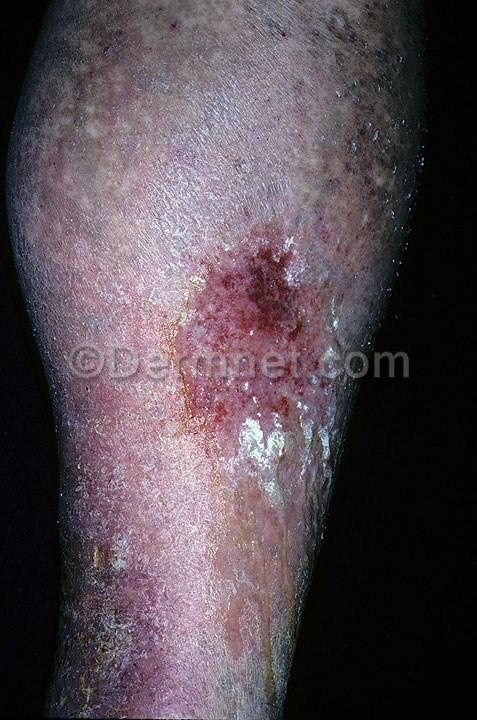Eczema: (211, 219, 332, 362), (261, 0, 384, 120), (54, 367, 165, 499), (27, 103, 164, 209), (216, 365, 319, 495), (39, 0, 163, 107), (160, 31, 258, 155), (274, 119, 362, 247), (24, 204, 138, 299), (142, 311, 218, 447), (97, 213, 204, 308), (24, 290, 153, 360), (51, 508, 148, 599), (154, 148, 281, 214), (164, 575, 238, 687), (361, 98, 441, 199), (158, 450, 227, 565), (238, 494, 317, 589), (63, 598, 173, 661), (369, 0, 437, 96), (40, 660, 142, 719), (353, 202, 415, 289), (328, 254, 376, 365), (142, 666, 235, 720), (242, 586, 301, 661), (163, 0, 266, 34), (319, 361, 352, 455), (235, 645, 282, 711)
